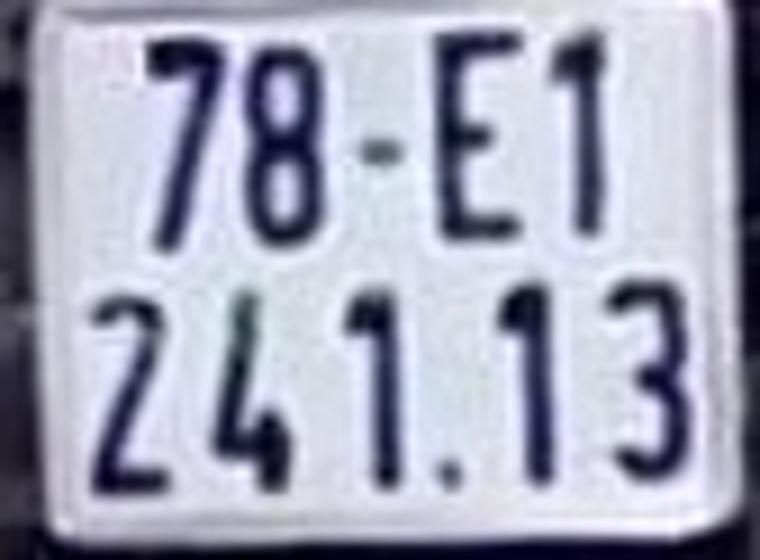-: (352, 134, 401, 164)
.: (440, 461, 461, 488)
1: (499, 287, 561, 484), (344, 289, 403, 490), (550, 36, 601, 235)
2: (88, 293, 168, 499)
3: (611, 279, 688, 473)
4: (218, 290, 291, 496)
7: (143, 40, 219, 254)
8: (246, 43, 325, 244)
E: (431, 33, 520, 241)
